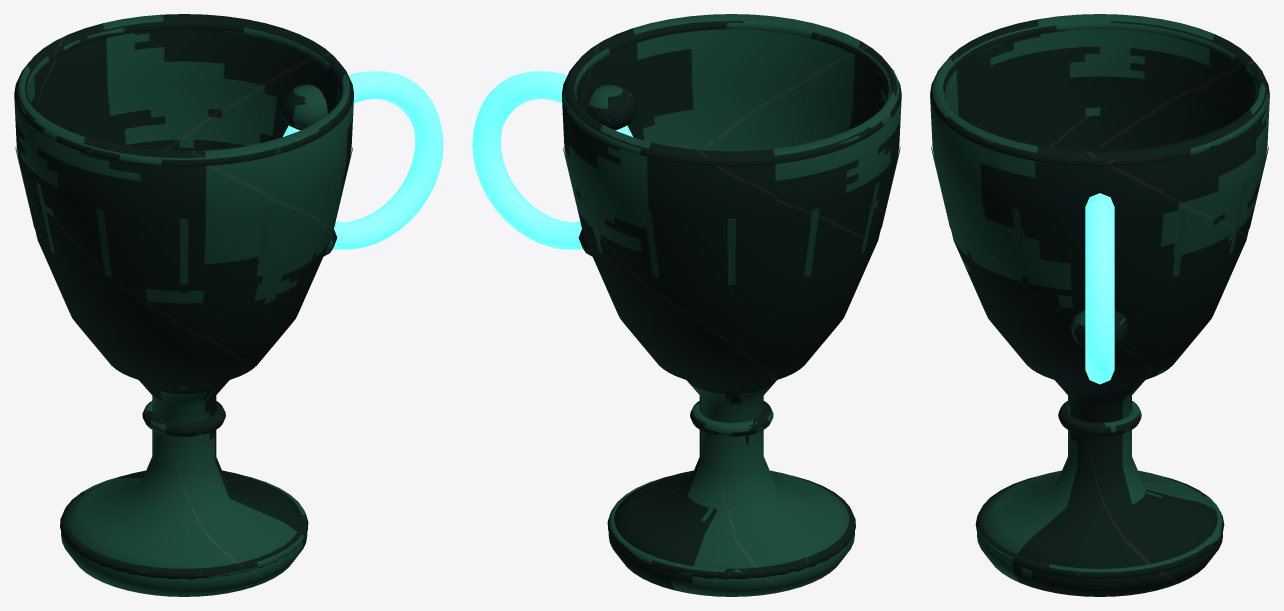
The model's file is cup_pattern_jade.fbx.
3 views of the same model, side by side, from view 1: azimuth 30°, elevation 25°; view 2: azimuth 150°, elevation 25°; view 3: azimuth 270°, elevation 25° (orthographic).
Parts seen in each view (by area): view 1: TH_S_Cup_HollowBody, TH_S_Cup_Handle, TH_S_Cup_Rim, TH_S_Cup_FootBand, TH_S_Cup_HandleMount.001, TH_S_Cup_StemBand, TH_S_Cup_ChasedFlute.008, TH_S_Cup_ChasedFlute.007, TH_S_Cup_ChasedFlute.009; view 2: TH_S_Cup_HollowBody, TH_S_Cup_Handle, TH_S_Cup_Rim, TH_S_Cup_FootBand, TH_S_Cup_HandleMount.001, TH_S_Cup_StemBand, TH_S_Cup_ChasedFlute.004, TH_S_Cup_ChasedFlute.003, TH_S_Cup_ChasedFlute.005; view 3: TH_S_Cup_HollowBody, TH_S_Cup_Rim, TH_S_Cup_Handle, TH_S_Cup_FootBand, TH_S_Cup_StemBand, TH_S_Cup_HandleMount, TH_S_Cup_ChasedFlute.001, TH_S_Cup_ChasedFlute.011, TH_S_Cup_ChasedFlute.002, TH_S_Cup_ChasedFlute.010.
Part boxes in pixels (x1,y1,x2,y2): TH_S_Cup_HollowBody: (14,14,353,596); TH_S_Cup_Handle: (283,71,443,249); TH_S_Cup_Rim: (14,21,353,166); TH_S_Cup_FootBand: (60,475,308,579); TH_S_Cup_HandleMount.001: (278,84,327,130); TH_S_Cup_StemBand: (142,401,225,436); TH_S_Cup_ChasedFlute.008: (180,218,188,352); TH_S_Cup_ChasedFlute.007: (96,208,127,346); TH_S_Cup_ChasedFlute.009: (240,208,271,346); TH_S_Cup_HollowBody: (562,14,901,596); TH_S_Cup_Handle: (472,71,632,249); TH_S_Cup_Rim: (562,21,901,166); TH_S_Cup_FootBand: (607,475,855,579); TH_S_Cup_HandleMount.001: (588,84,637,130); TH_S_Cup_StemBand: (690,401,773,436); TH_S_Cup_ChasedFlute.004: (727,218,735,352); TH_S_Cup_ChasedFlute.003: (644,208,675,346); TH_S_Cup_ChasedFlute.005: (788,208,819,346); TH_S_Cup_HollowBody: (930,14,1269,596); TH_S_Cup_Rim: (930,21,1269,166); TH_S_Cup_Handle: (1085,193,1114,384); TH_S_Cup_FootBand: (975,476,1224,579); TH_S_Cup_StemBand: (1058,401,1141,436); TH_S_Cup_HandleMount: (1070,310,1129,347); TH_S_Cup_ChasedFlute.001: (1156,208,1187,346); TH_S_Cup_ChasedFlute.011: (1012,208,1043,346); TH_S_Cup_ChasedFlute.002: (1200,182,1247,328); TH_S_Cup_ChasedFlute.010: (952,182,999,328).
Size of the model in its own units: 0.19 by 0.209 by 0.138.
2 materials, 1 textured.
